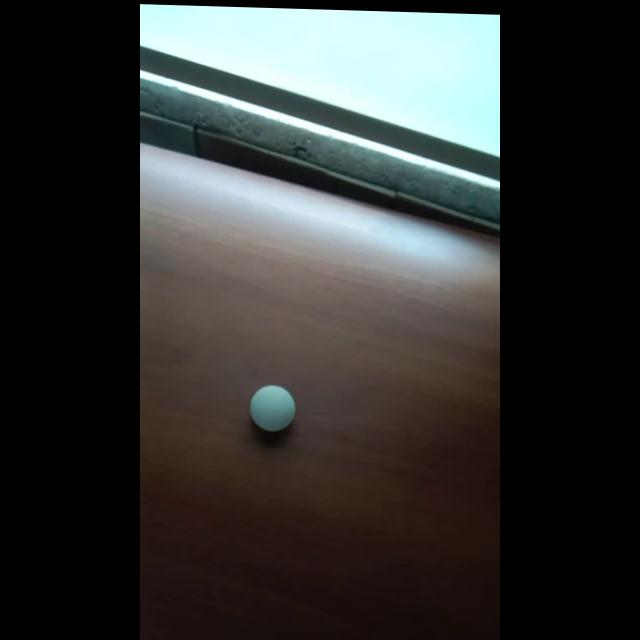white ball: (249, 383, 295, 433)
